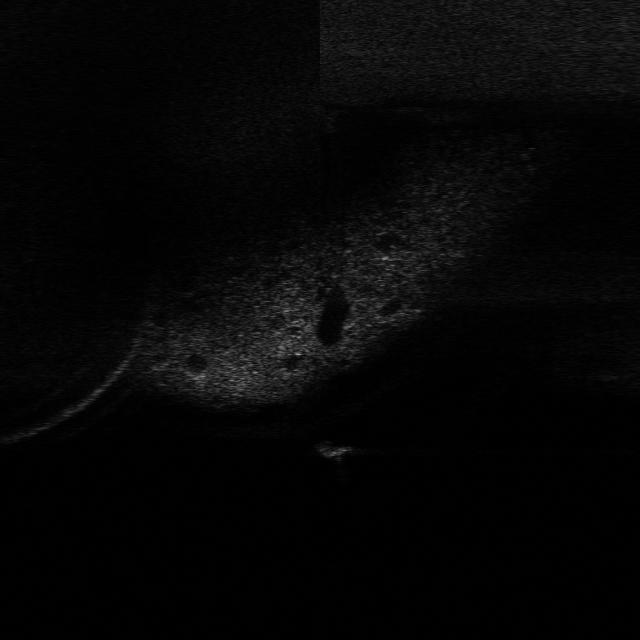cube: (310, 438, 356, 462)
